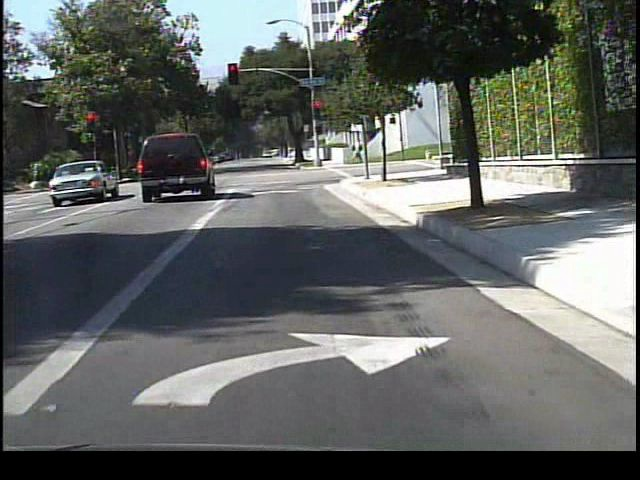person: (347, 139, 364, 169)
